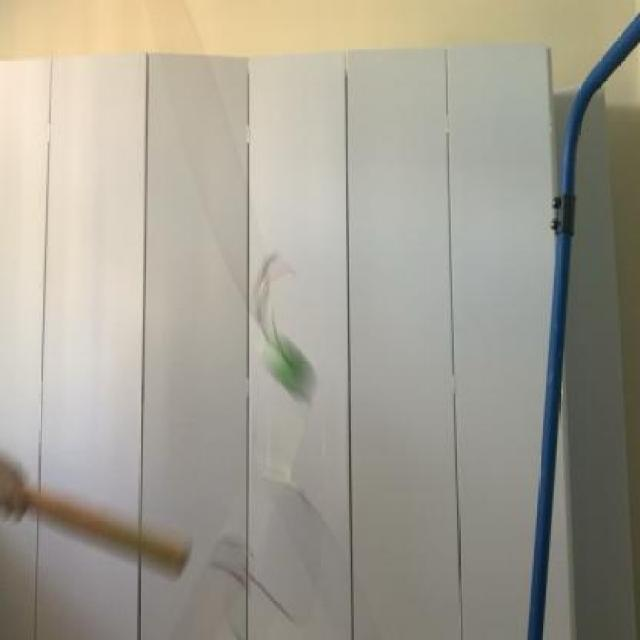baseball: (260, 314, 322, 398)
